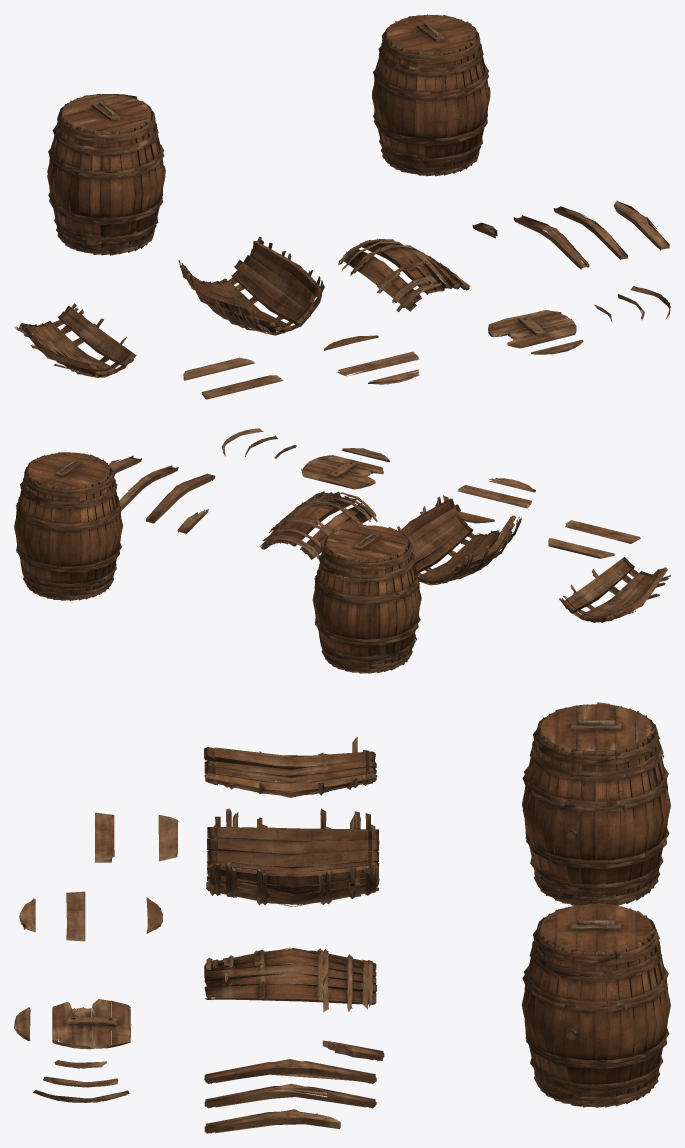
Rendered from wooden_barrels_01.glb.
3 renders of one model, top to bottom at view 1: azimuth 30°, elevation 25°; view 2: azimuth 150°, elevation 25°; view 3: azimuth 270°, elevation 25°, orthographic. The views are drawn at different scales.
Parts seen in each view (by area): view 1: wooden_barrels_01_barrel02, wooden_barrels_01_barrel01, wooden_barrels_01_piece01, wooden_barrels_01_piece03, wooden_barrels_01_piece02, wooden_barrels_01_piece08, wooden_barrels_01_piece04, wooden_barrels_01_piece05, wooden_barrels_01_piece06, wooden_barrels_01_piece11, wooden_barrels_01_piece14, wooden_barrels_01_piece13; view 2: wooden_barrels_01_barrel02, wooden_barrels_01_barrel01, wooden_barrels_01_piece01, wooden_barrels_01_piece03, wooden_barrels_01_piece02, wooden_barrels_01_piece08, wooden_barrels_01_piece04, wooden_barrels_01_piece14, wooden_barrels_01_piece11, wooden_barrels_01_piece05, wooden_barrels_01_piece13; view 3: wooden_barrels_01_barrel01, wooden_barrels_01_barrel02, wooden_barrels_01_piece01, wooden_barrels_01_piece03, wooden_barrels_01_piece02, wooden_barrels_01_piece08, wooden_barrels_01_piece04, wooden_barrels_01_piece05, wooden_barrels_01_piece06, wooden_barrels_01_piece11, wooden_barrels_01_piece14, wooden_barrels_01_piece13 (+1 smaller).
Part boxes in pixels (box(x1,y1,x2,y2)): wooden_barrels_01_barrel02: box(47, 94, 165, 255); wooden_barrels_01_barrel01: box(372, 14, 490, 176); wooden_barrels_01_piece01: box(178, 236, 324, 335); wooden_barrels_01_piece03: box(338, 239, 470, 311); wooden_barrels_01_piece02: box(14, 303, 136, 377); wooden_barrels_01_piece08: box(488, 310, 576, 348); wooden_barrels_01_piece04: box(513, 215, 589, 269); wooden_barrels_01_piece05: box(553, 206, 627, 259); wooden_barrels_01_piece06: box(613, 200, 669, 250); wooden_barrels_01_piece11: box(337, 351, 419, 376); wooden_barrels_01_piece14: box(201, 375, 283, 399); wooden_barrels_01_piece13: box(183, 357, 254, 380); wooden_barrels_01_barrel02: box(312, 524, 421, 673); wooden_barrels_01_barrel01: box(14, 452, 122, 600); wooden_barrels_01_piece01: box(397, 495, 521, 585); wooden_barrels_01_piece03: box(259, 491, 377, 559); wooden_barrels_01_piece02: box(559, 557, 670, 622); wooden_barrels_01_piece08: box(301, 455, 383, 489); wooden_barrels_01_piece04: box(146, 473, 215, 523); wooden_barrels_01_piece14: box(565, 520, 640, 543); wooden_barrels_01_piece11: box(457, 485, 531, 508); wooden_barrels_01_piece05: box(119, 465, 178, 510); wooden_barrels_01_piece13: box(548, 538, 614, 558); wooden_barrels_01_barrel01: box(522, 903, 670, 1107); wooden_barrels_01_barrel02: box(522, 702, 670, 905); wooden_barrels_01_piece01: box(206, 808, 379, 906); wooden_barrels_01_piece03: box(204, 947, 376, 1012); wooden_barrels_01_piece02: box(204, 737, 377, 797); wooden_barrels_01_piece08: box(52, 999, 131, 1049); wooden_barrels_01_piece04: box(204, 1059, 376, 1083); wooden_barrels_01_piece05: box(204, 1083, 376, 1108); wooden_barrels_01_piece06: box(204, 1109, 340, 1133); wooden_barrels_01_piece11: box(66, 891, 85, 941); wooden_barrels_01_piece14: box(95, 812, 114, 862); wooden_barrels_01_piece13: box(158, 815, 178, 861).
Bounding box in the file's own units: 4.44 × 0.9558 × 3.35.
3 materials, 3 textured.
